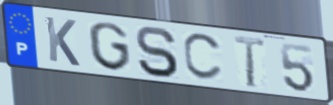5: (278, 41, 317, 93)
C: (181, 32, 225, 83)
G: (86, 21, 133, 74)
K: (43, 14, 82, 69)
S: (134, 25, 181, 80)
T: (232, 34, 267, 90)
